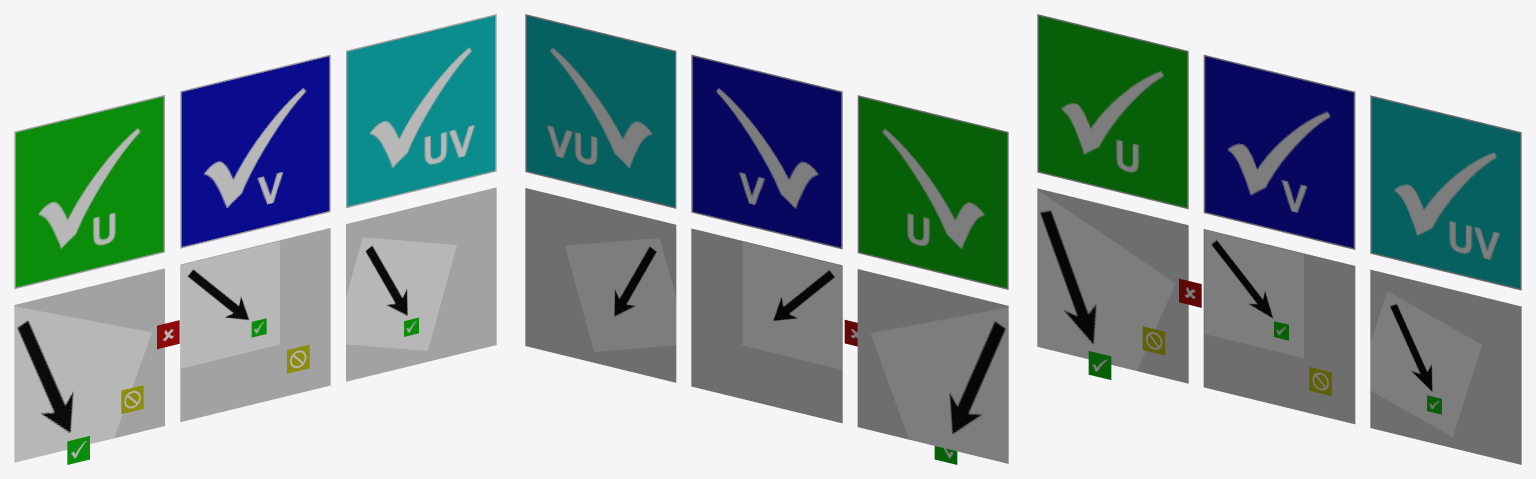
The model's file is TextureTransformTest.glb.
3 views of the same model, side by side, from view 1: azimuth 30°, elevation 25°; view 2: azimuth 150°, elevation 25°; view 3: azimuth 330°, elevation 25° (orthographic).
Parts seen in each view (by area): view 1: Offset U, Offset V, Offset UV, All, Scale, Rotation, Rotation - Error, Scale - Not Supported, Rotation - Correct, Rotation - Not Supported; view 2: Offset V, Rotation, Scale, Offset U, All, Offset UV; view 3: Offset V, Offset U, Offset UV, All, Scale, Rotation, Rotation - Correct, Rotation - Not Supported, Rotation - Error, Scale - Not Supported.
Boxes of the visible parts, x1,y1,x2,y2 form: Offset U: [14, 95, 164, 289]; Offset V: [180, 54, 330, 248]; Offset UV: [346, 14, 496, 208]; All: [346, 187, 496, 381]; Scale: [180, 228, 330, 421]; Rotation: [14, 268, 164, 462]; Rotation - Error: [157, 320, 179, 349]; Scale - Not Supported: [287, 344, 309, 373]; Rotation - Correct: [67, 436, 89, 464]; Rotation - Not Supported: [121, 385, 143, 413]; Offset V: [691, 54, 842, 249]; Rotation: [857, 269, 1008, 463]; Scale: [691, 228, 842, 423]; Offset U: [857, 95, 1008, 289]; All: [525, 188, 676, 382]; Offset UV: [525, 14, 676, 208]; Offset V: [1203, 54, 1355, 249]; Offset U: [1037, 14, 1188, 209]; Offset UV: [1370, 95, 1521, 290]; All: [1370, 269, 1521, 464]; Scale: [1203, 229, 1355, 424]; Rotation: [1037, 188, 1188, 383]; Rotation - Correct: [1088, 351, 1111, 379]; Rotation - Not Supported: [1142, 326, 1165, 355]; Rotation - Error: [1179, 278, 1201, 307]; Scale - Not Supported: [1309, 367, 1331, 395].
Size of the model in its own units: 3.2 by 2.19 by 0.01.
9 materials, 9 textured.
